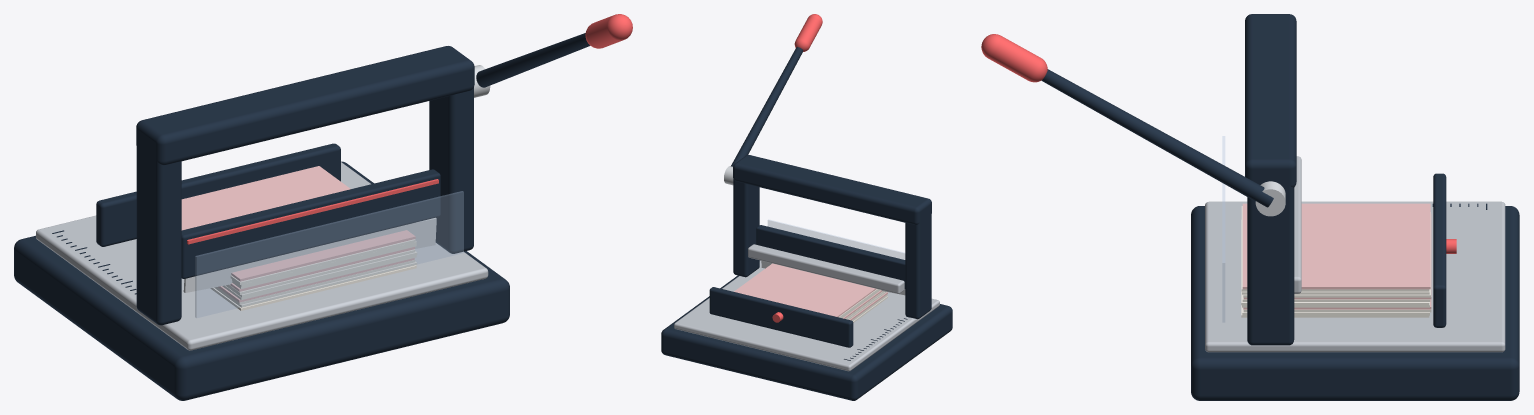
File: design_massicot.glb
3 renders of one model, left to right at view 1: azimuth 30°, elevation 25°; view 2: azimuth 150°, elevation 25°; view 3: azimuth 270°, elevation 25°, orthographic. The views are drawn at different scales.
Parts seen in each view (by area): view 1: Socle, Protection, Traverse, Table, Porte_lame, Montant_gauche, Feuille_12, Montant_droit, Butee, Lame, Bras, Liseré (+10 smaller); view 2: Socle, Table, Traverse, Feuille_12, Butee, Porte_lame, Montant_gauche, Presse, Montant_droit, Bras, Protection, Poignee; view 3: Table, Socle, Feuille_12, Traverse, Montant_droit, Bras, Butee, Poignee, Presse, Pivot, Feuille_6, Feuille_9 (+6 smaller).
Part boxes in pixels (x1,y1,x2,y2): Socle: (14,161,509,400); Protection: (195,191,463,317); Traverse: (136,46,474,164); Table: (36,162,488,350); Porte_lame: (181,169,440,278); Montant_gauche: (136,143,181,325); Feuille_12: (181,166,415,281); Montant_droit: (429,87,473,253); Butee: (96,143,340,246); Lame: (183,218,436,292); Bras: (476,33,590,87); Liseré: (187,179,438,244); Socle: (661,260,952,400); Table: (674,260,939,371); Traverse: (733,155,931,224); Feuille_12: (734,263,876,317); Butee: (709,287,853,347); Porte_lame: (756,225,905,288); Montant_gauche: (905,214,931,319); Presse: (748,244,904,293); Montant_droit: (733,179,759,277); Bras: (731,47,803,166); Protection: (768,219,904,259); Poignee: (794,14,822,51); Table: (1205,201,1505,352); Socle: (1191,206,1519,400); Feuille_12: (1242,203,1430,289); Traverse: (1245,14,1296,187); Montant_droit: (1247,182,1294,345); Bras: (1041,69,1273,207); Butee: (1433,173,1446,327); Poignee: (981,34,1047,82); Presse: (1294,156,1301,293); Pivot: (1255,181,1285,216); Feuille_6: (1241,220,1429,305); Feuille_9: (1243,212,1430,297).
Size of the model in its own units: 0.42 by 0.4363 by 0.5731.
